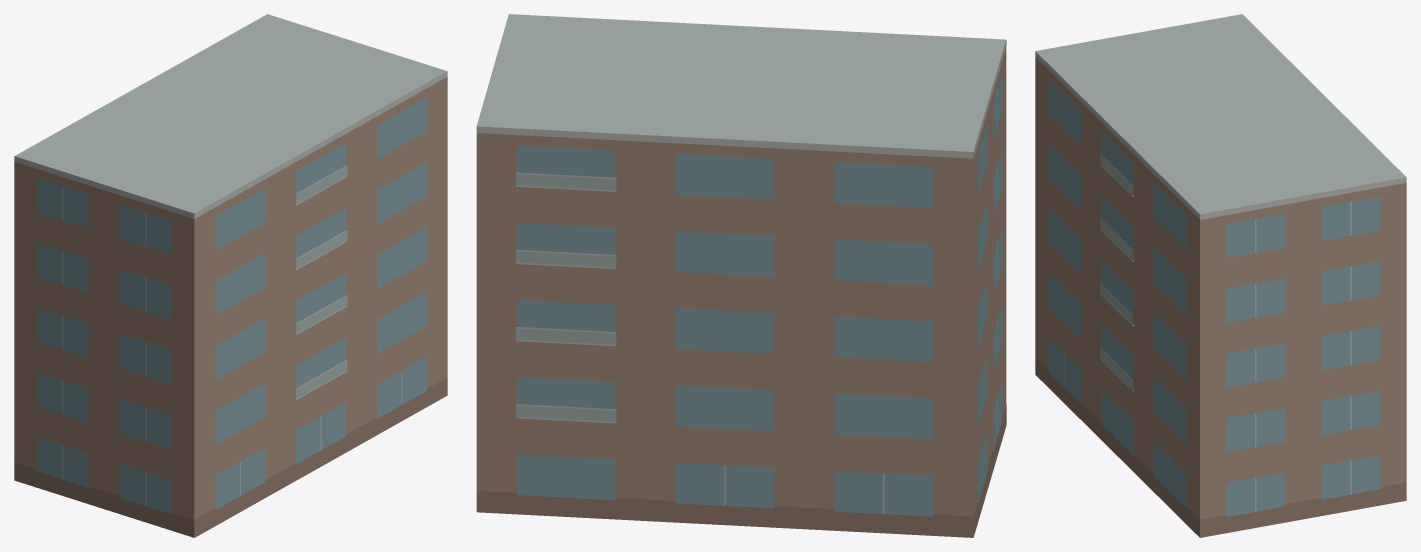
The model's file is survey-upis-32769890.glb.
3 renders of one model, left to right at view 1: azimuth 30°, elevation 25°; view 2: azimuth 150°, elevation 25°; view 3: azimuth 270°, elevation 25°, orthographic. The views are drawn at different scales.
Parts seen in each view (by area): view 1: survey-upis-32769890.tmp; view 2: survey-upis-32769890.tmp; view 3: survey-upis-32769890.tmp.
Part boxes in pixels (x1,y1,x2,y2): survey-upis-32769890.tmp: (14, 14, 447, 537); survey-upis-32769890.tmp: (476, 14, 1006, 537); survey-upis-32769890.tmp: (1035, 14, 1406, 537).
Size of the model in its own units: 18.88 by 14.2 by 14.78.
